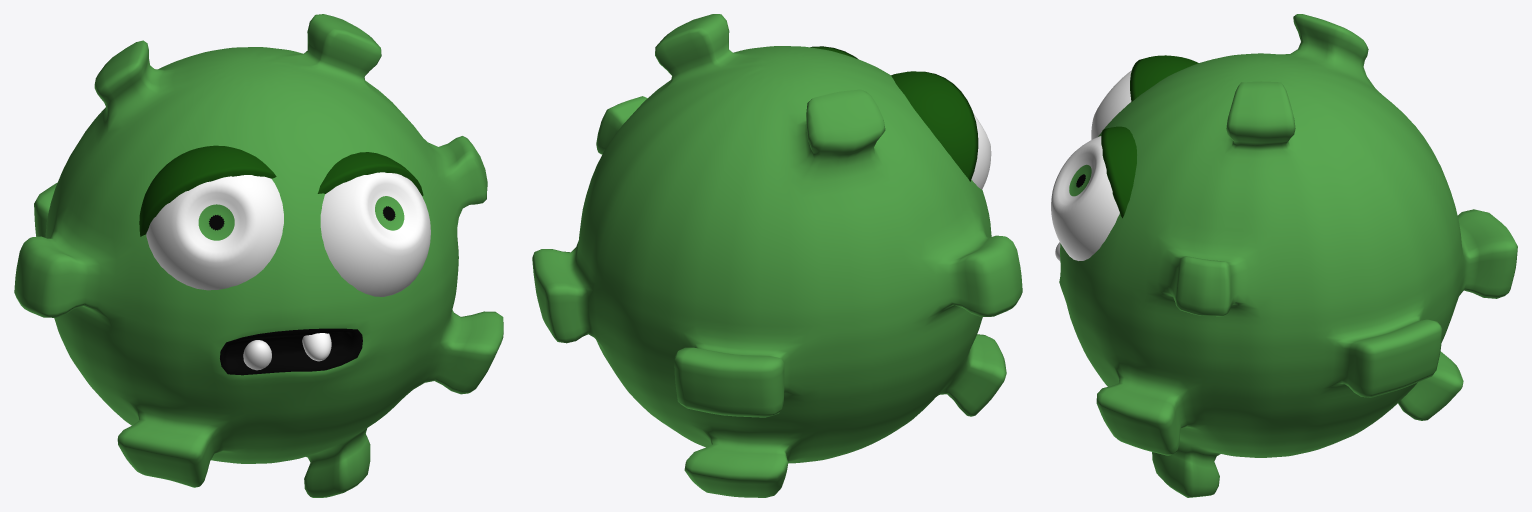
Rendered from Virus_Monster.fbx.
The picture shows the model from 3 angles, left to right: view 1: azimuth 30°, elevation 25°; view 2: azimuth 150°, elevation 25°; view 3: azimuth 270°, elevation 25°; orthographic projection. The views are drawn at different scales.
Parts seen in each view (by area): view 1: Body, Eye_L, Eye_R, Eye_L_Lid, Eye_R_Lid, Teeth_L, Teeth_R; view 2: Body, Eye_L_Lid, Eye_L; view 3: Body, Eye_R, Eye_R_Lid, Eye_L_Lid, Eye_L.
Boxes of the visible parts, x1=… form: Body: x1=14, y1=14, x2=503, y2=497; Eye_L: x1=146, y1=175, x2=283, y2=290; Eye_R: x1=320, y1=172, x2=430, y2=296; Eye_L_Lid: x1=139, y1=145, x2=276, y2=236; Eye_R_Lid: x1=317, y1=152, x2=423, y2=195; Teeth_L: x1=243, y1=340, x2=271, y2=370; Teeth_R: x1=302, y1=333, x2=331, y2=361; Body: x1=532, y1=14, x2=1022, y2=497; Eye_L_Lid: x1=891, y1=71, x2=978, y2=181; Eye_L: x1=971, y1=113, x2=991, y2=189; Body: x1=1059, y1=14, x2=1517, y2=497; Eye_R: x1=1051, y1=136, x2=1119, y2=260; Eye_R_Lid: x1=1101, y1=126, x2=1136, y2=218; Eye_L_Lid: x1=1130, y1=55, x2=1198, y2=101; Eye_L: x1=1091, y1=70, x2=1131, y2=139.
Size of the model in its own units: 59.87 by 57.42 by 57.26.
